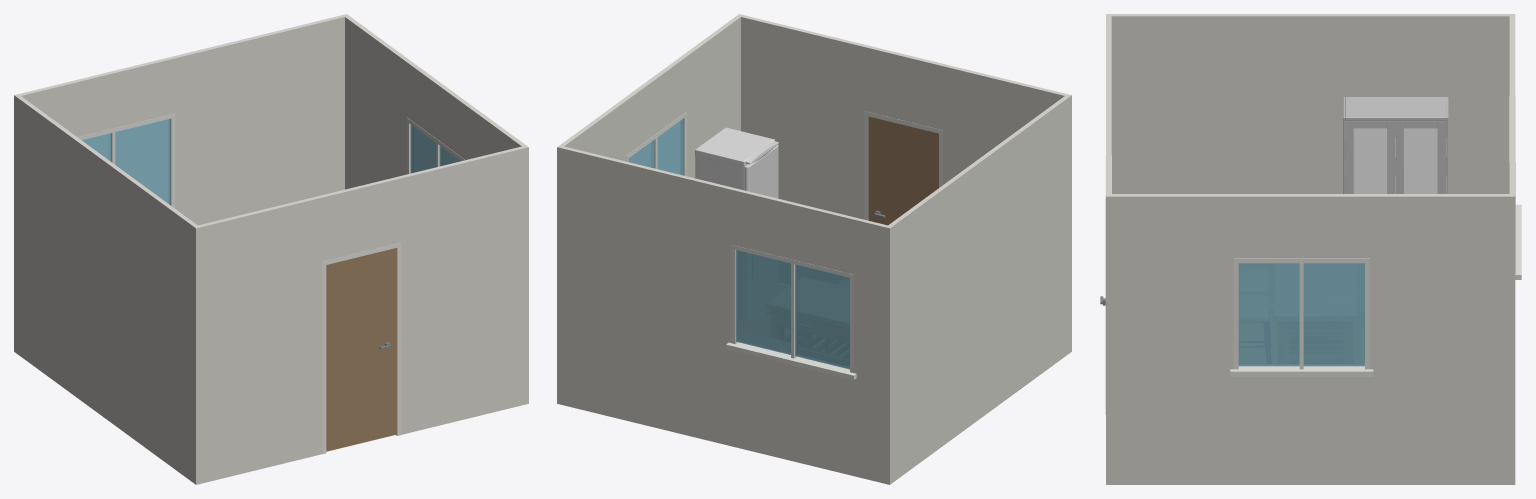
The model's file is scenesmith.glb.
3 renders of one model, left to right at view 1: azimuth 30°, elevation 25°; view 2: azimuth 150°, elevation 25°; view 3: azimuth 270°, elevation 25°, orthographic. The views are drawn at different scales.
Parts seen in each view (by area): view 1: scene_065_kitchen_south_wall, scene_065_kitchen_west_wall, scene_065_kitchen_north_wall, scene_065_kitchen_east_wall, scene_065_kitchen_south_wall Door 0 | wood leaf, scene_065_kitchen_north_wall Window 0 | glazing, scene_065_kitchen_south_wall Door 0 | jamb, scene_065_kitchen_east_wall Window 0 | glazing, scene_065_kitchen_north_wall Window 0 | jamb, scene_065_kitchen_east_wall Window 0 | jamb; view 2: scene_065_kitchen_north_wall, scene_065_kitchen_west_wall, scene_065_kitchen_south_wall, scene_065_kitchen_east_wall, scene_065_kitchen_north_wall Window 0 | glazing, scene_065_kitchen_south_wall Door 0 | wood leaf, P_1d9b609d3928cca5.001, scene_065_kitchen_north_wall Window 0 | jamb, scene_065_kitchen_east_wall Window 0 | glazing, scene_065_kitchen_south_wall Door 0 | jamb, scene_065_kitchen_east_wall Window 0 | jamb; view 3: scene_065_kitchen_east_wall, scene_065_kitchen_west_wall, scene_065_kitchen_east_wall Window 0 | glazing, P_210768f5bbf3169b.001, P_101a3d179b28cca5.001, scene_065_kitchen_east_wall Window 0 | jamb, scene_065_kitchen_north_wall, scene_065_kitchen_south_wall, scene_065_kitchen_north_wall Window 0 | jamb.
Boxes of the visible parts, x1,y1,x2,y2 form: scene_065_kitchen_south_wall: (194, 145, 528, 483); scene_065_kitchen_west_wall: (16, 96, 200, 484); scene_065_kitchen_north_wall: (14, 14, 348, 353); scene_065_kitchen_east_wall: (345, 16, 528, 404); scene_065_kitchen_south_wall Door 0 | wood leaf: (326, 248, 396, 451); scene_065_kitchen_north_wall Window 0 | glazing: (82, 119, 170, 204); scene_065_kitchen_south_wall Door 0 | jamb: (322, 242, 401, 454); scene_065_kitchen_east_wall Window 0 | glazing: (410, 124, 460, 173); scene_065_kitchen_north_wall Window 0 | jamb: (77, 113, 175, 208); scene_065_kitchen_east_wall Window 0 | jamb: (407, 117, 465, 174); scene_065_kitchen_north_wall: (557, 145, 892, 484); scene_065_kitchen_west_wall: (885, 95, 1071, 484); scene_065_kitchen_south_wall: (737, 14, 1071, 219); scene_065_kitchen_east_wall: (557, 16, 740, 404); scene_065_kitchen_north_wall Window 0 | glazing: (736, 250, 849, 369); scene_065_kitchen_south_wall Door 0 | wood leaf: (868, 116, 938, 225); P_1d9b609d3928cca5.001: (695, 127, 778, 198); scene_065_kitchen_north_wall Window 0 | jamb: (726, 245, 856, 380); scene_065_kitchen_east_wall Window 0 | glazing: (628, 119, 682, 175); scene_065_kitchen_south_wall Door 0 | jamb: (864, 111, 942, 220); scene_065_kitchen_east_wall Window 0 | jamb: (626, 111, 686, 176); scene_065_kitchen_east_wall: (1111, 194, 1509, 484); scene_065_kitchen_west_wall: (1111, 14, 1509, 193); scene_065_kitchen_east_wall Window 0 | glazing: (1238, 263, 1364, 366); P_210768f5bbf3169b.001: (1343, 97, 1448, 193); P_101a3d179b28cca5.001: (1353, 128, 1437, 193); scene_065_kitchen_east_wall Window 0 | jamb: (1230, 258, 1373, 376); scene_065_kitchen_north_wall: (1509, 14, 1515, 484); scene_065_kitchen_south_wall: (1106, 14, 1111, 484); scene_065_kitchen_north_wall Window 0 | jamb: (1509, 96, 1521, 279).
Size of the model in its own units: 3.85 by 2.81 by 3.7.
